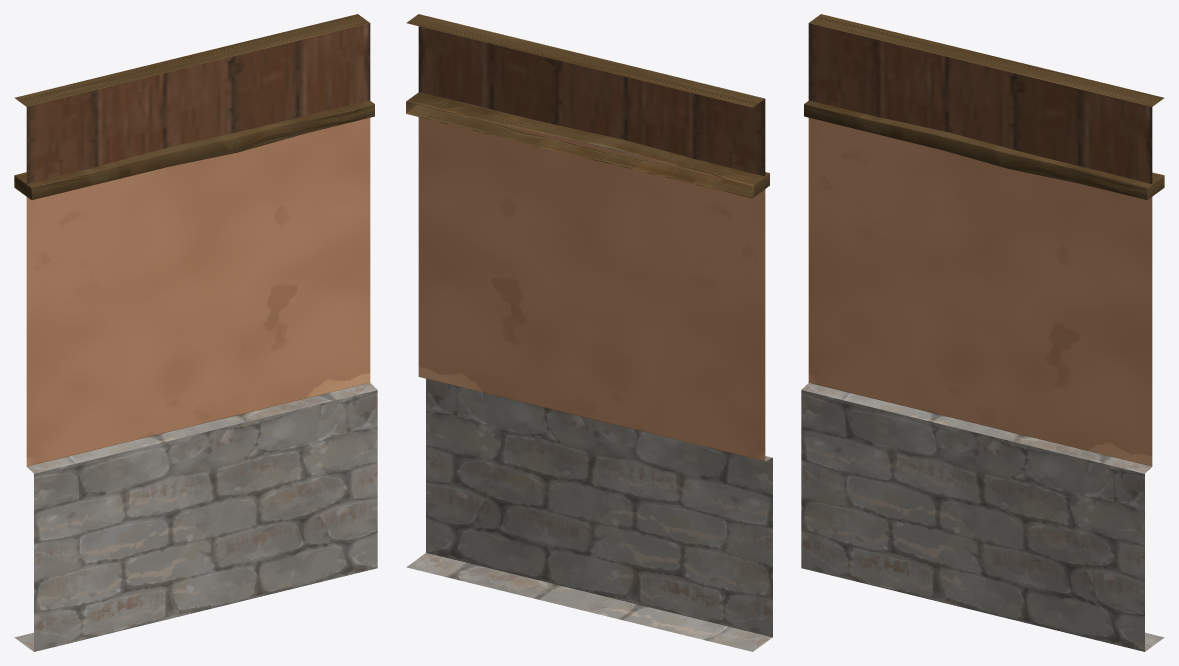
3 views of the same model, side by side, from view 1: azimuth 30°, elevation 25°; view 2: azimuth 150°, elevation 25°; view 3: azimuth 330°, elevation 25° (orthographic).
Parts seen in each view (by area): view 1: W3x2B; view 2: W3x2B; view 3: W3x2B.
Boxes of the visible parts, x1,y1,x2,y2 form: W3x2B: (14, 14, 377, 651); W3x2B: (406, 14, 772, 651); W3x2B: (801, 14, 1164, 651).
Size of the model in its own units: 2 by 3 by 0.2.
Materials: 1 (1 with a texture image).
